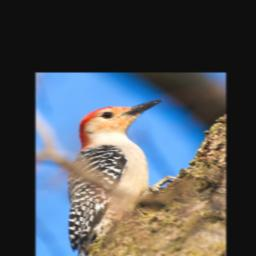Woodpecker: (68, 97, 164, 256)
